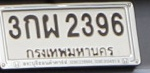num3: (7, 15, 22, 40)
txt01: (22, 14, 42, 40)
txt23: (41, 13, 60, 40)
